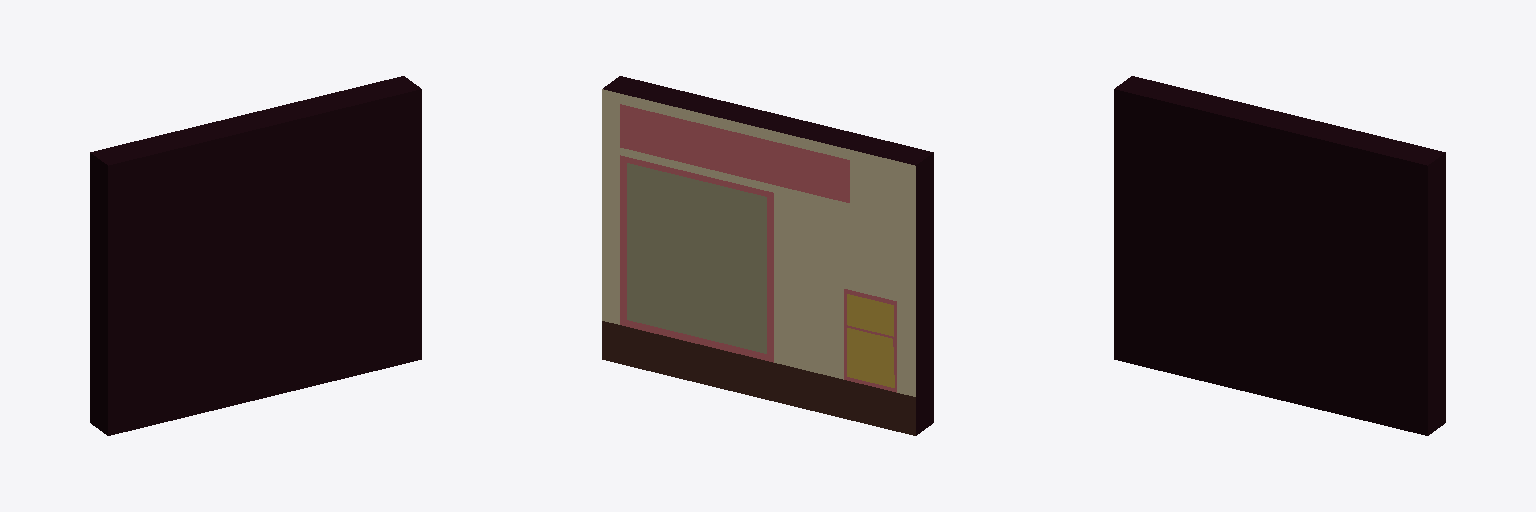
The picture shows the model from 3 angles: view 1: azimuth 30°, elevation 25°; view 2: azimuth 150°, elevation 25°; view 3: azimuth 330°, elevation 25°; orthographic projection.
Visible parts, largest first — view 1: pCube7; view 2: pCube7; view 3: pCube7.
Part boxes in pixels (x1,y1,x2,y2): pCube7: (90,76,421,435); pCube7: (602,76,933,435); pCube7: (1114,76,1445,435).
Bounding box in the file's own units: 411 × 338 × 41.19.
1 materials, 1 textured.